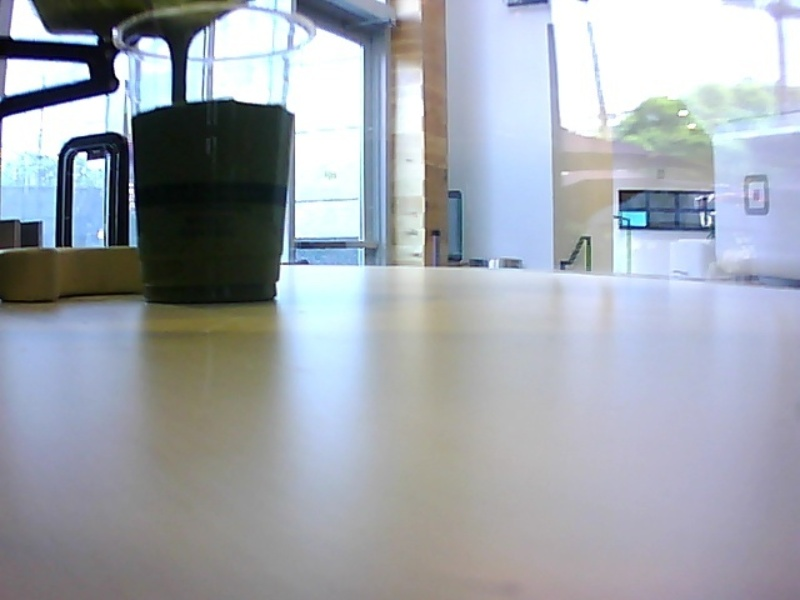cup: (111, 2, 318, 309)
limit: (132, 91, 299, 121)
